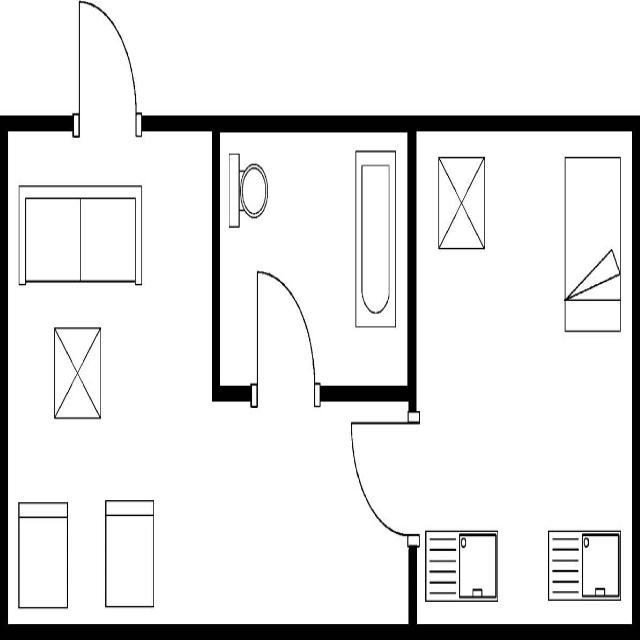bed: (560, 144, 622, 340)
coffee_table: (434, 148, 488, 260), (50, 320, 104, 425)
large_sink: (225, 140, 271, 238)
large_sofa: (15, 177, 145, 295)
sink: (420, 520, 502, 610), (544, 519, 626, 609)
small_sofa: (101, 492, 158, 612), (15, 495, 71, 613)
tub: (352, 142, 398, 332)
